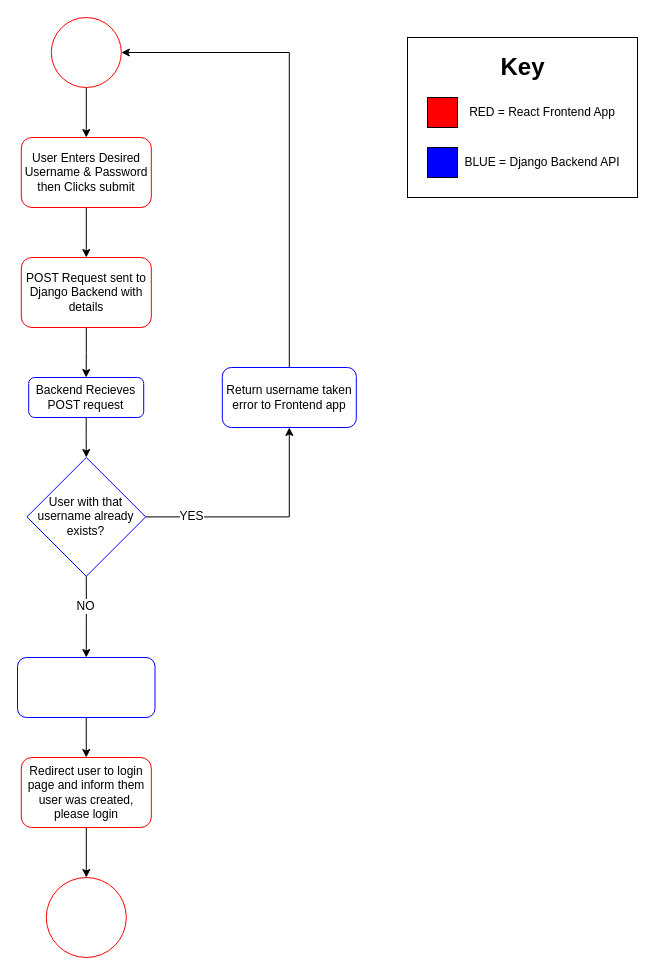
Image size: 655x975. Some labels were removed from this diagram. The shapes that lost their labels are listed below. From the top down, each one's box as (x1, y1, x2, y2) in pixels, then its label:
(50, 16, 121, 88): At Registration Page
(16, 656, 155, 718): Return user created to frontend app
(45, 876, 126, 958): Begin Login
